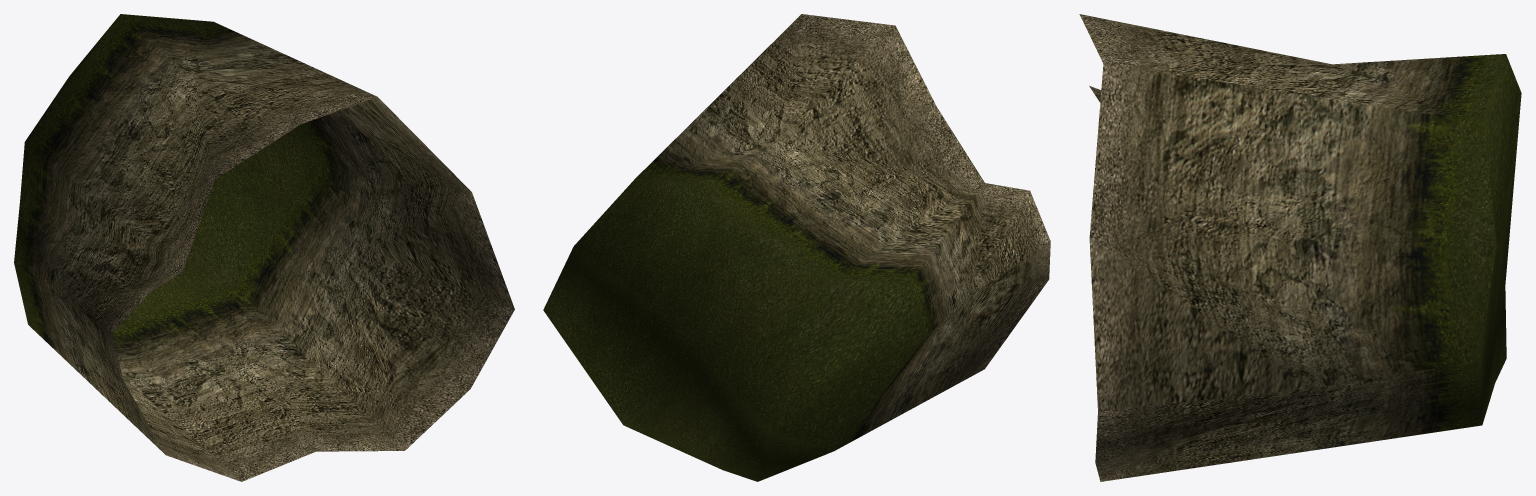
The model's file is MEP_Edge_01_c.fbx.
3 renders of one model, left to right at view 1: azimuth 30°, elevation 25°; view 2: azimuth 150°, elevation 25°; view 3: azimuth 270°, elevation 25°, orthographic. The views are drawn at different scales.
Visible parts, largest first — view 1: MEP_Edge_01_c; view 2: MEP_Edge_01_c; view 3: MEP_Edge_01_c.
Boxes of the visible parts, x1,y1,x2,y2 form: MEP_Edge_01_c: (14,14,514,481); MEP_Edge_01_c: (543,14,1050,481); MEP_Edge_01_c: (1079,14,1521,481).
Bounding box in the file's own units: 6.24 × 5.43 × 5.34.
Materials: 1 (1 with a texture image).
